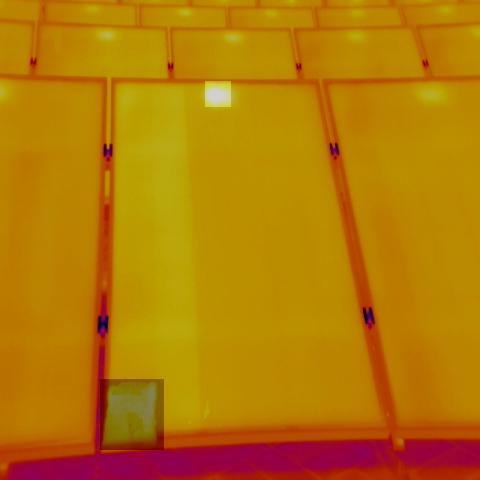fault: (100, 379, 164, 450), (205, 82, 231, 107)
